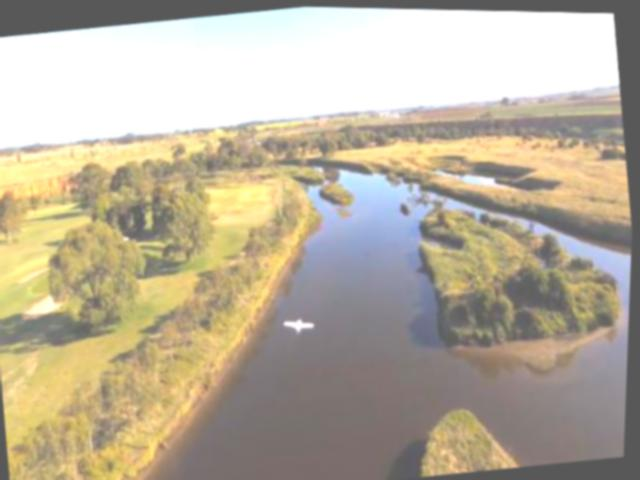uav: (282, 312, 319, 336)
